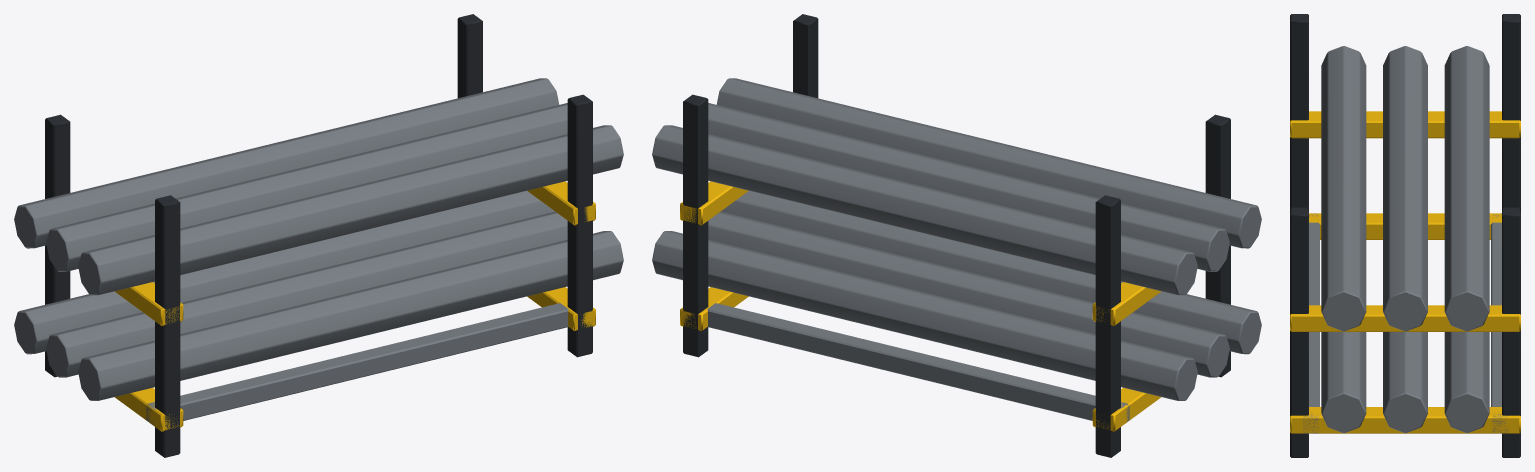
The model's file is CONSTRUCTION_RACK_01.glb.
3 renders of one model, left to right at view 1: azimuth 30°, elevation 25°; view 2: azimuth 150°, elevation 25°; view 3: azimuth 270°, elevation 25°, orthographic. The views are drawn at different scales.
Visible parts, largest first — view 1: CIVRUM_GAME_CONSTRUCTION_RACK_01; view 2: CIVRUM_GAME_CONSTRUCTION_RACK_01; view 3: CIVRUM_GAME_CONSTRUCTION_RACK_01.
Part boxes in pixels (<box>): CIVRUM_GAME_CONSTRUCTION_RACK_01: <box>14,14,623,457</box>; CIVRUM_GAME_CONSTRUCTION_RACK_01: <box>652,14,1261,457</box>; CIVRUM_GAME_CONSTRUCTION_RACK_01: <box>1290,14,1520,457</box>.
Size of the model in its own units: 3.68 by 1.7 by 1.46.
